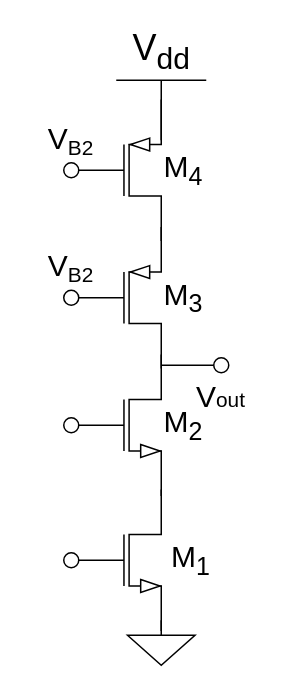
Image size: 291x692. Some labels were removed from this diagram. The centre of each missing label's shape, as x and y in pixels:
"V B" belongs at (115,424).
"V in" belongs at (115,559).
